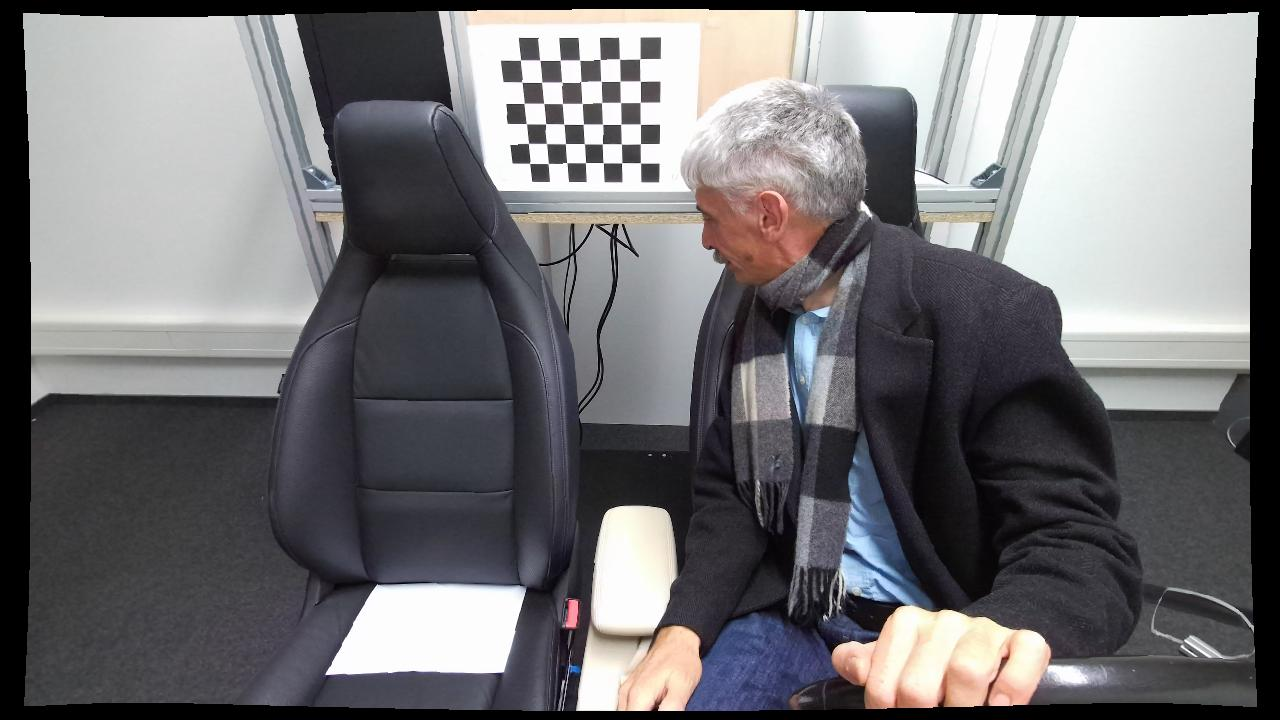Distracted: (663, 75, 1089, 699)
